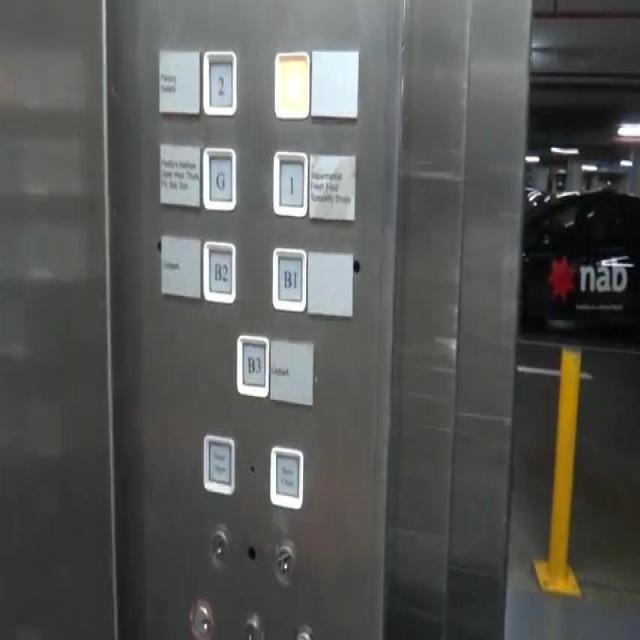1: (271, 146, 308, 218)
2: (200, 47, 238, 117)
B1: (270, 243, 306, 313)
B2: (200, 235, 236, 305)
B3: (234, 329, 270, 400)
G: (199, 141, 237, 212)
empty: (272, 48, 310, 121)
keyhole: (188, 596, 215, 639), (272, 543, 294, 584), (208, 524, 228, 561)
text: (268, 442, 304, 510), (201, 431, 235, 496)
